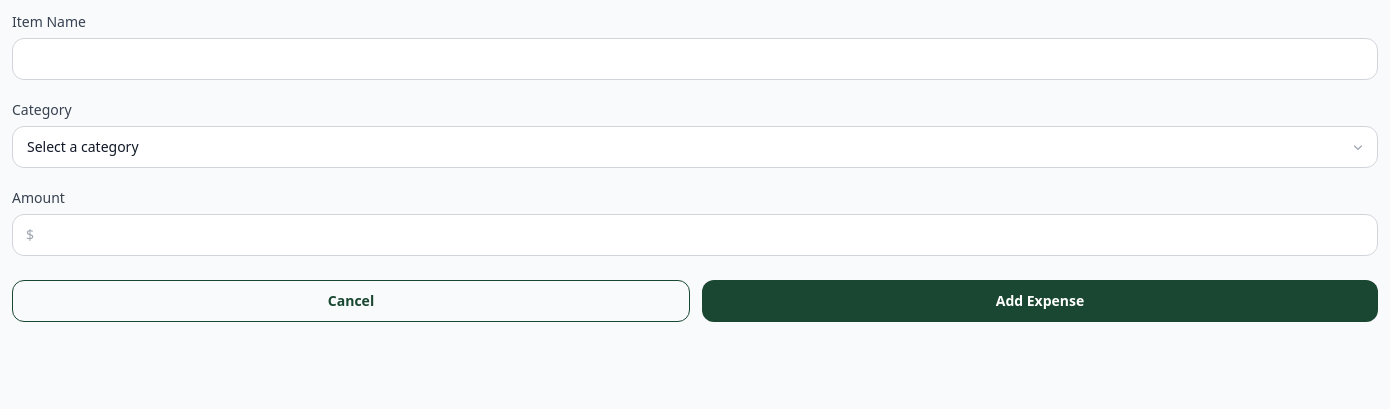
Test case: ExpenseForm component › clears the error for a field as soon as it is typed into
Click the button "Add Expense": (1040,301) [702,280,1378,322]
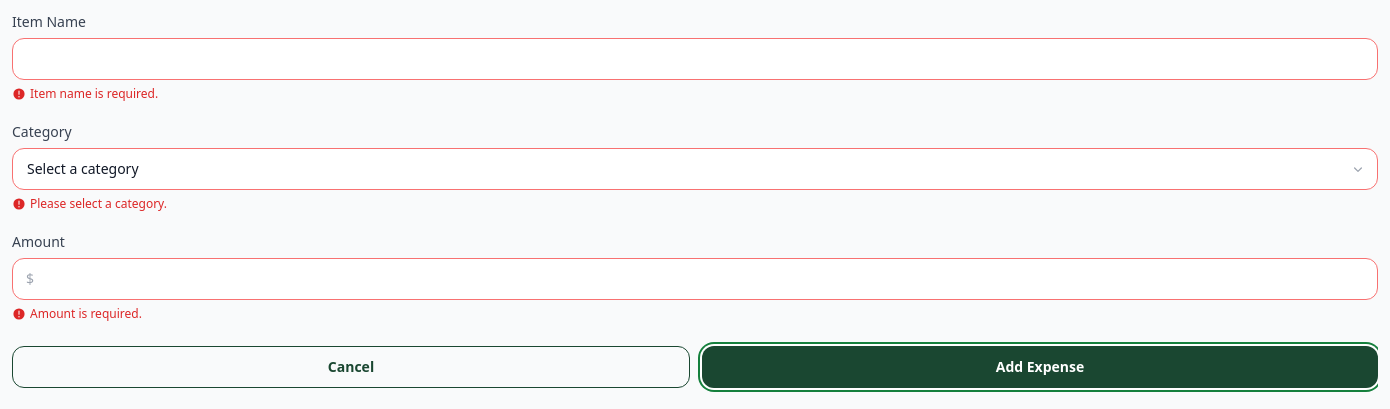
Now the text "Item name is required." is shown, box [12,85,158,102]
In the field labelled "Item Name": (695,59) [12,38,1378,80], type "Cat Bed"
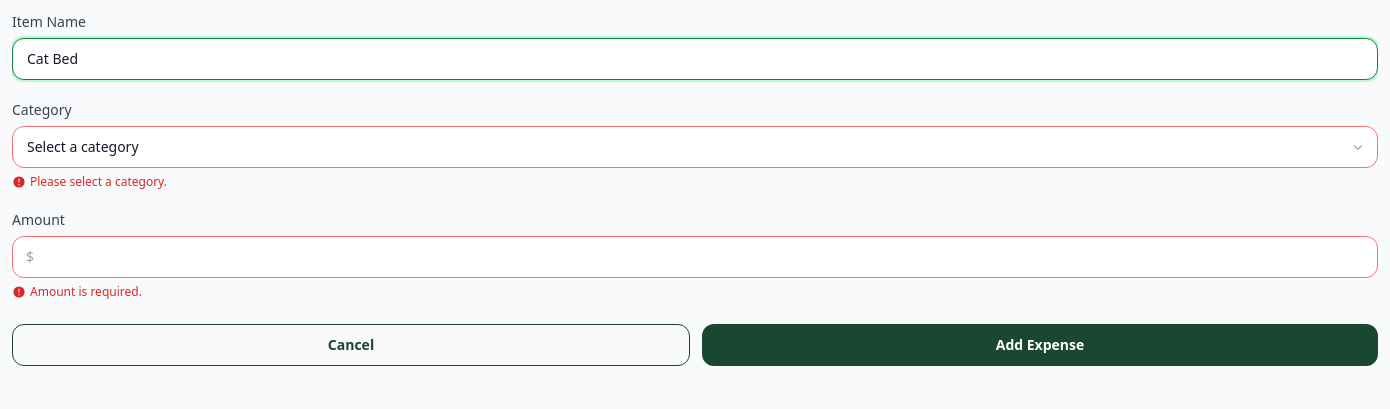
Now the text "Item name is required." is gone
